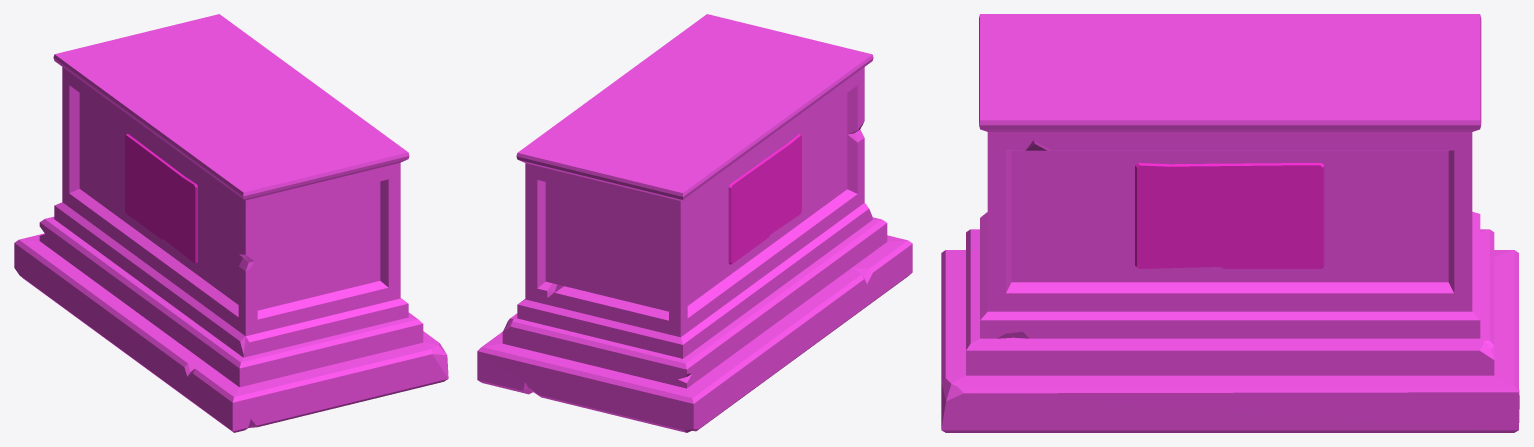
The model's file is SM_Pedestal_Long_E_Fantasy.fbx.
3 renders of one model, left to right at view 1: azimuth 30°, elevation 25°; view 2: azimuth 150°, elevation 25°; view 3: azimuth 270°, elevation 25°, orthographic. The views are drawn at different scales.
Visible parts, largest first — view 1: SM_Pedestal_Long_E_Fantasy; view 2: SM_Pedestal_Long_E_Fantasy; view 3: SM_Pedestal_Long_E_Fantasy.
Boxes of the visible parts, box(x1,y1,x2,y2) form: SM_Pedestal_Long_E_Fantasy: box(14, 14, 448, 432); SM_Pedestal_Long_E_Fantasy: box(477, 14, 912, 432); SM_Pedestal_Long_E_Fantasy: box(941, 14, 1519, 432).
Size of the model in its own units: 2.05 by 2.04 by 3.59.
